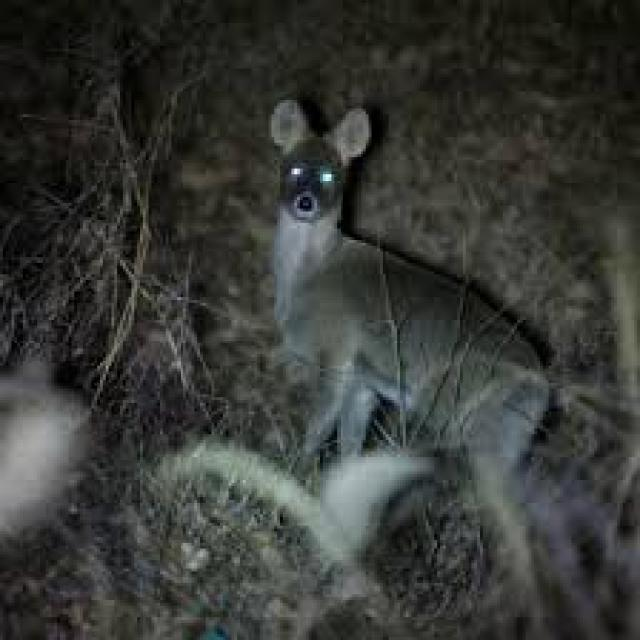elk: (210, 97, 588, 591)
